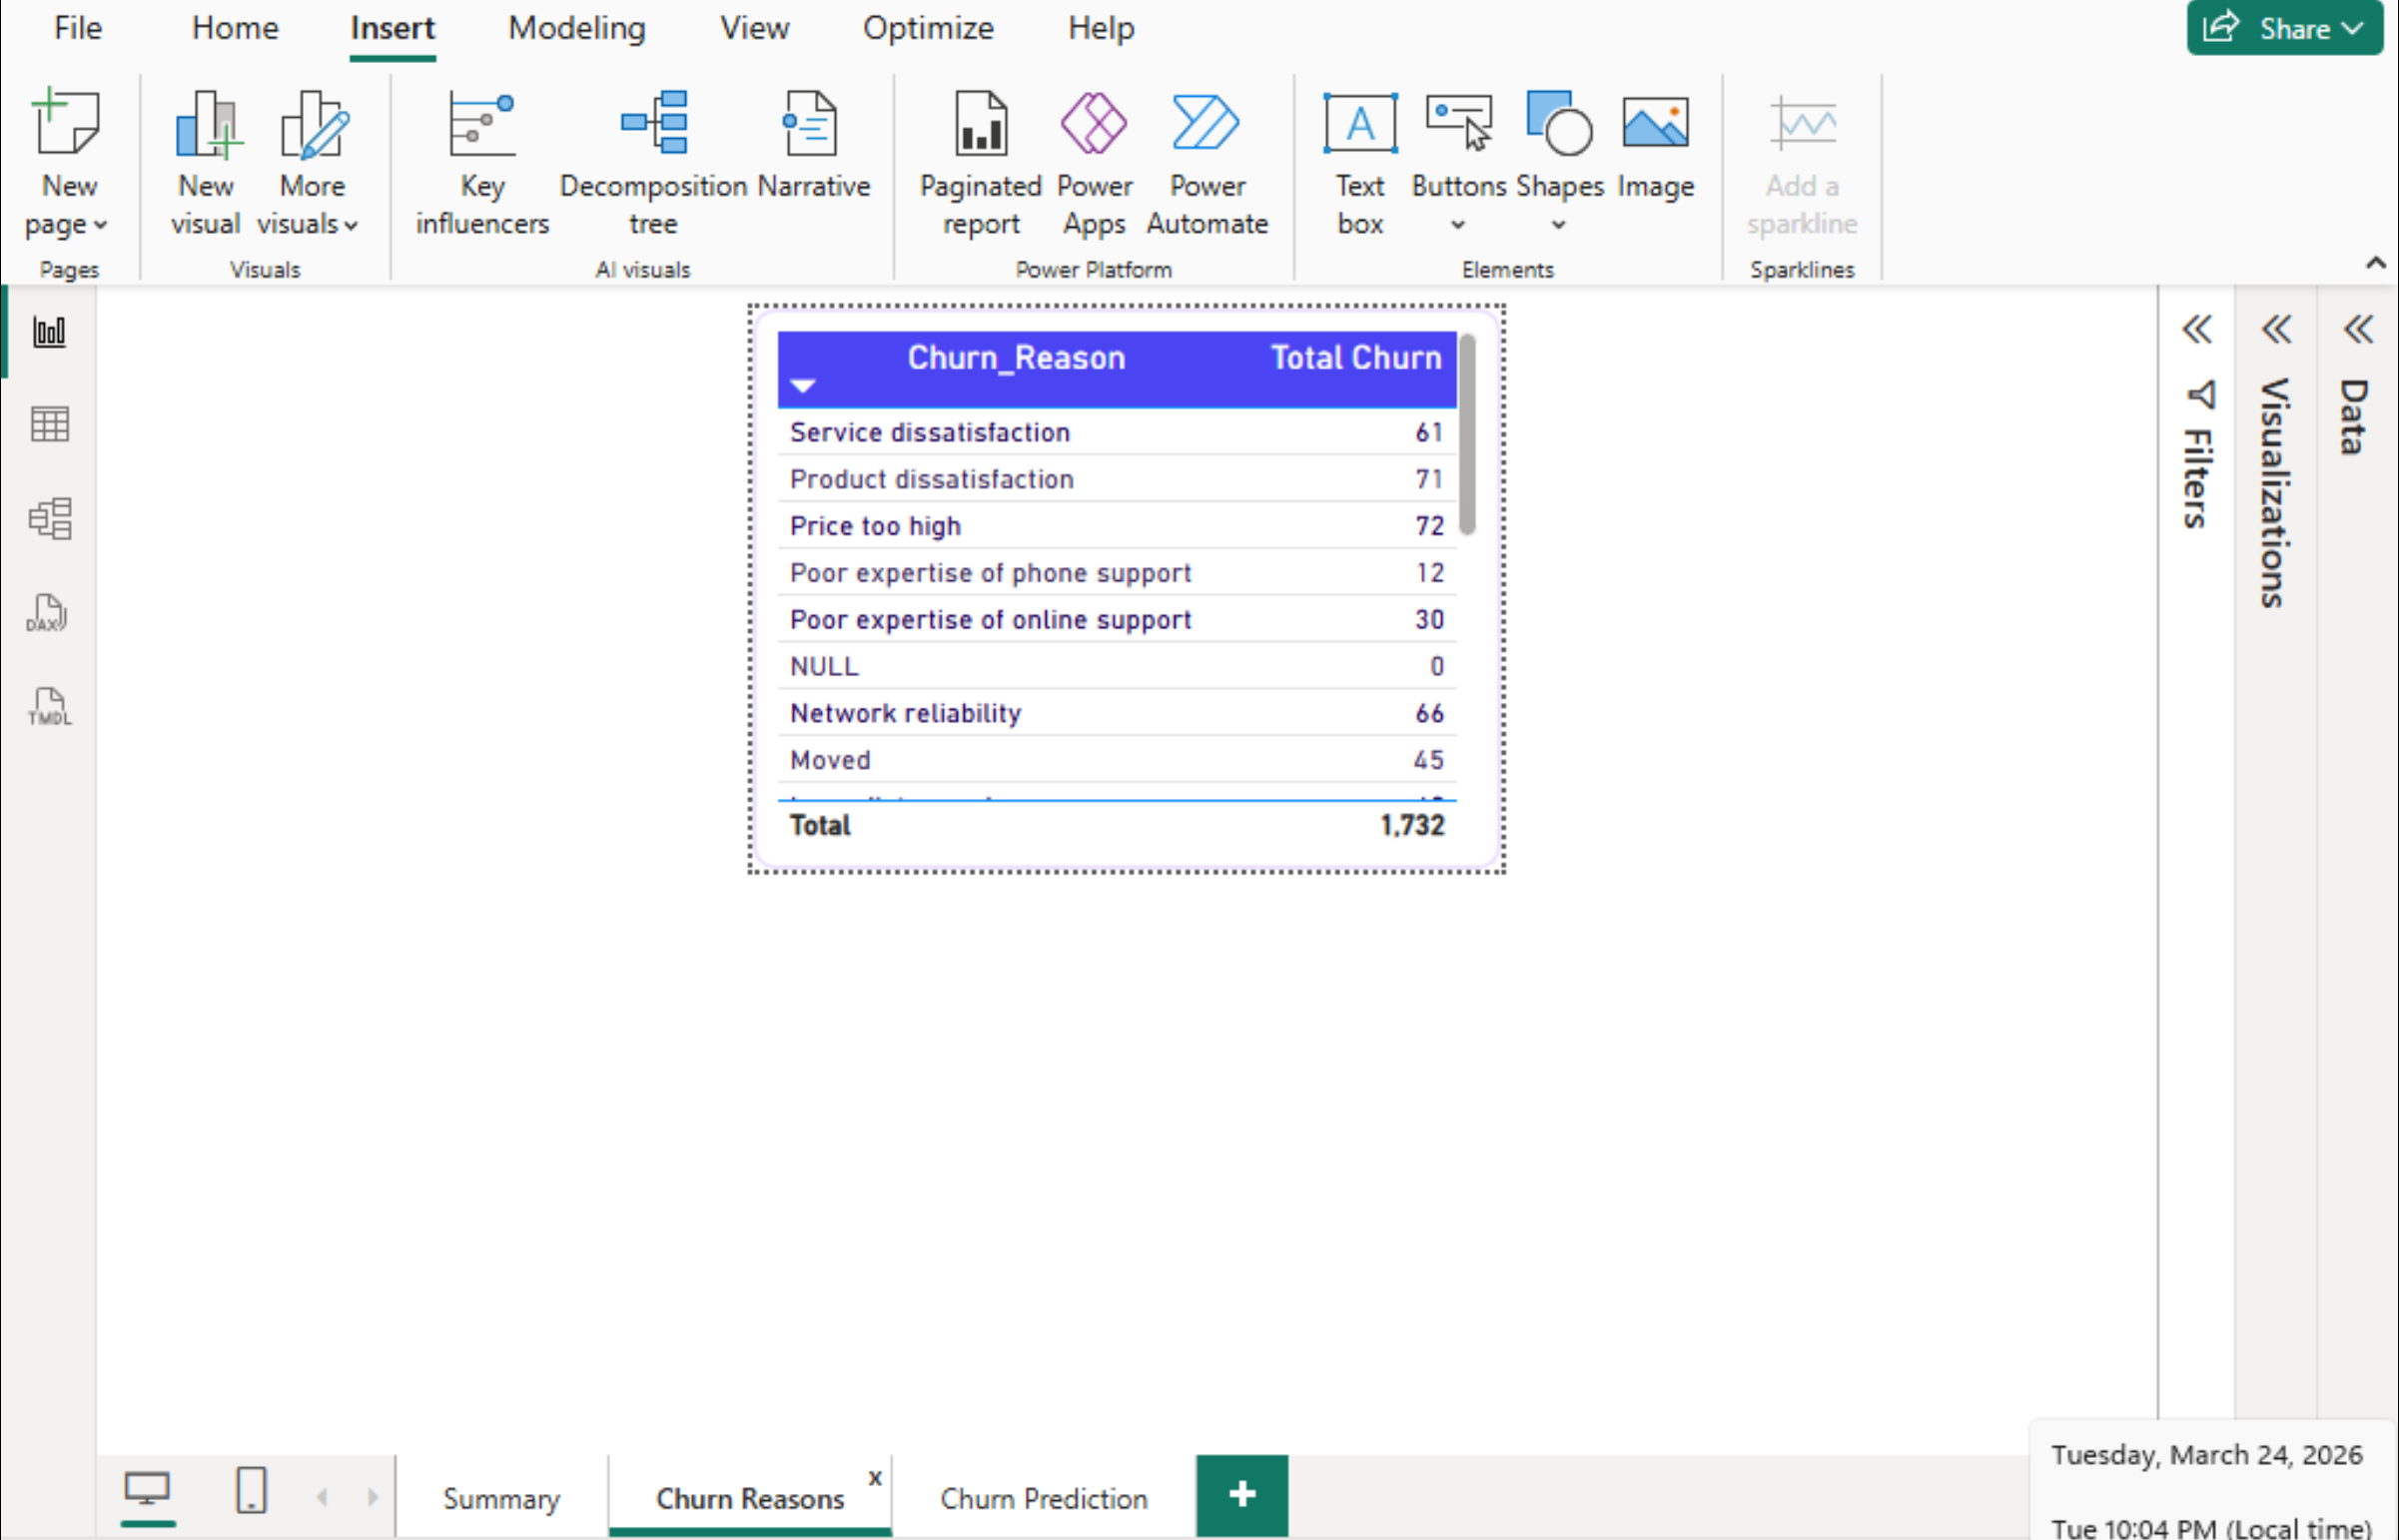

Layout of this report page (visuals, bound fields, positions):
{"tool":"powerbi","page":{"name":"Churn Reasons","canvas":[320,240],"ordinal":1},"visuals":[{"type":"tableEx","fields":{"Values":["Customer_Data.Churn_Reason","_Measure.Total Charn"]},"box":[0,0,320,240],"z":0}]}

Visuals, with their boxes on the page's 320x240 design canvas (x1, y1, x2, y2). These are canvas units, not pixel positions in the 2399x1540 screenshot, which may show the page scaled, cropped or inside an application window:
tableEx - Customer_Data.Churn_Reason x _Measure.Total Charn: rect(0, 0, 320, 240)
